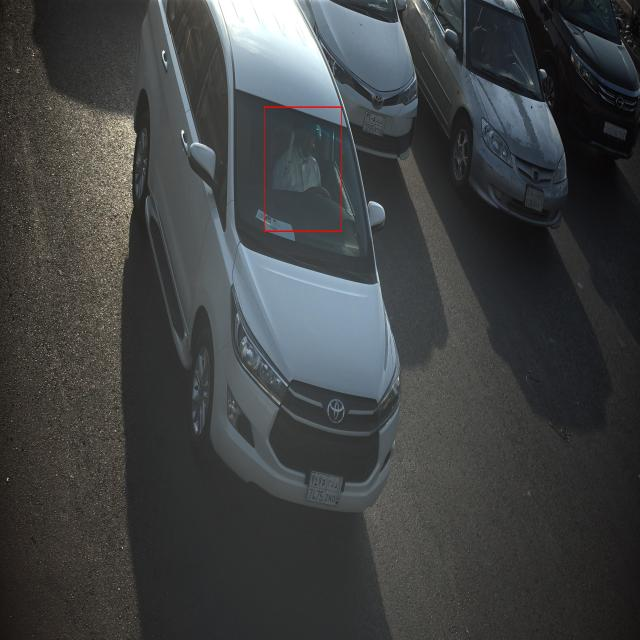windshield: (219, 81, 386, 299)
